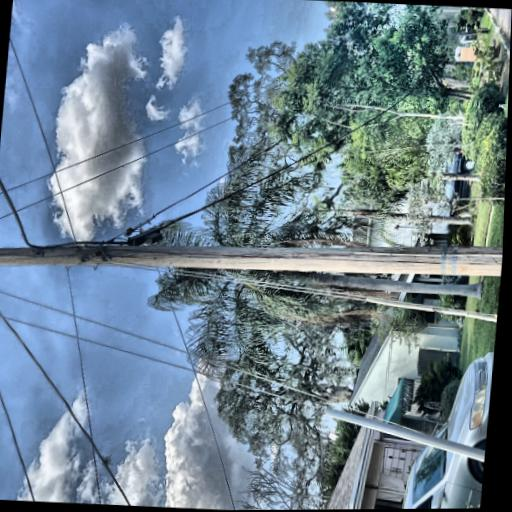pole: (54, 0, 158, 504)
street light: (119, 0, 227, 57)
transformer: (60, 3, 106, 83)
